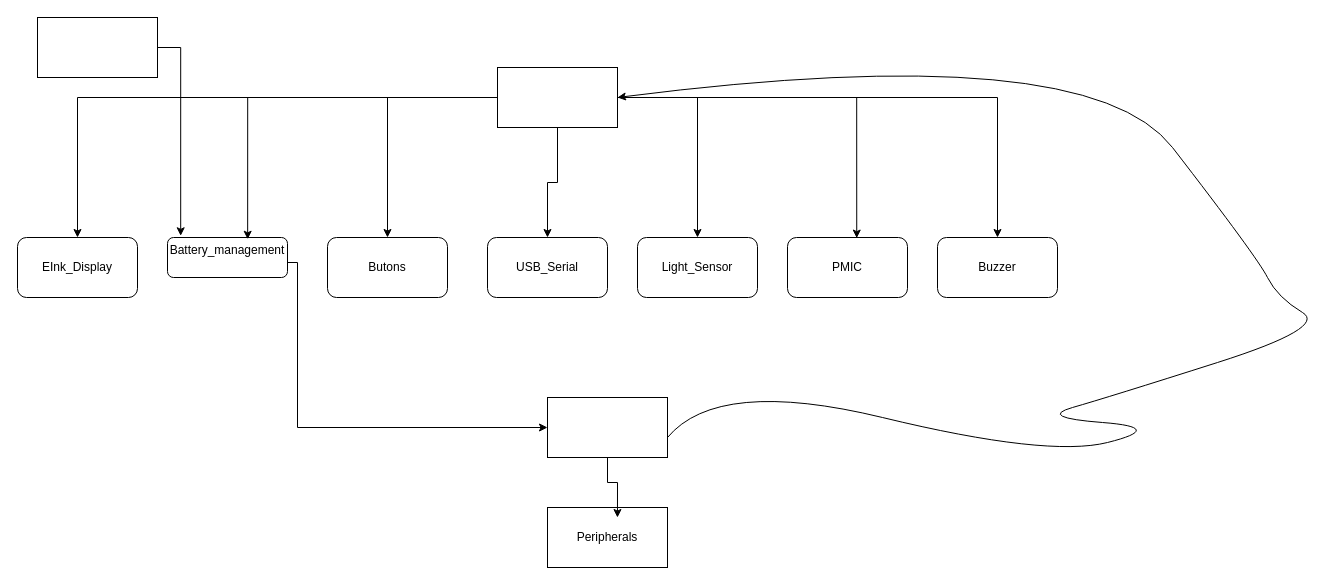
Some shapes in this 1325 by 585 pixel diagram are drawn without their labels. The centre of each missing label's shape, as x and y in pixels:
"Battery" belongs at [97,47].
"ESP32-C6" belongs at [557,97].
"Power_rail" belongs at [607,427].
